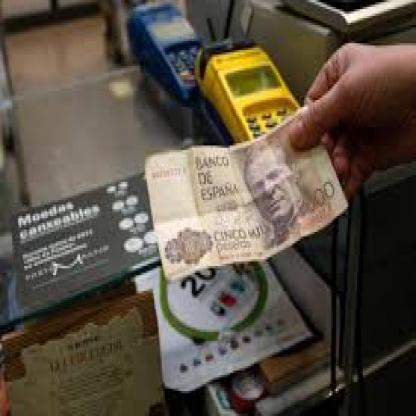billete: (144, 107, 348, 280)
